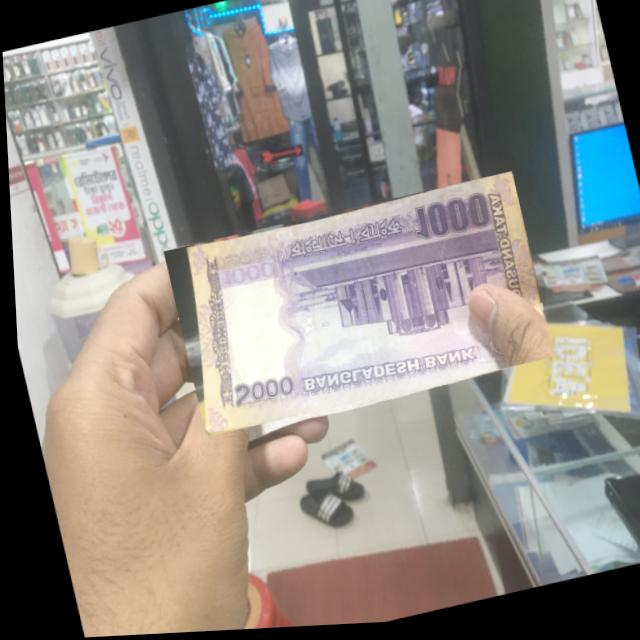Taka: (158, 175, 553, 439)
